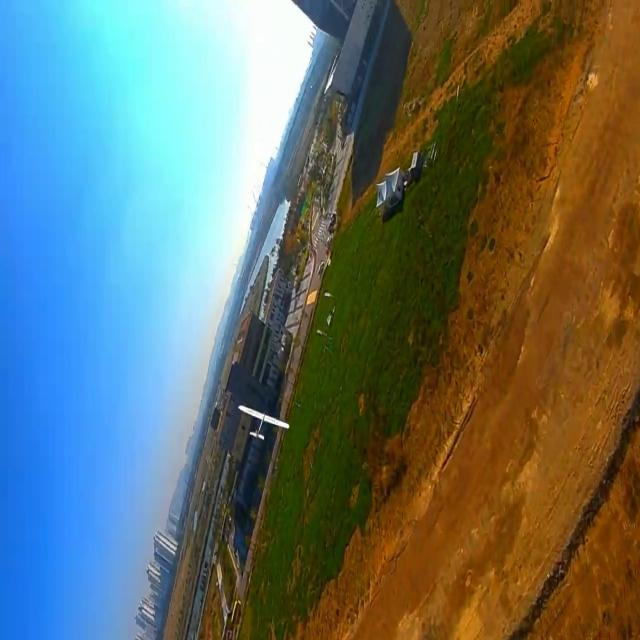iha: (231, 403, 284, 441)
